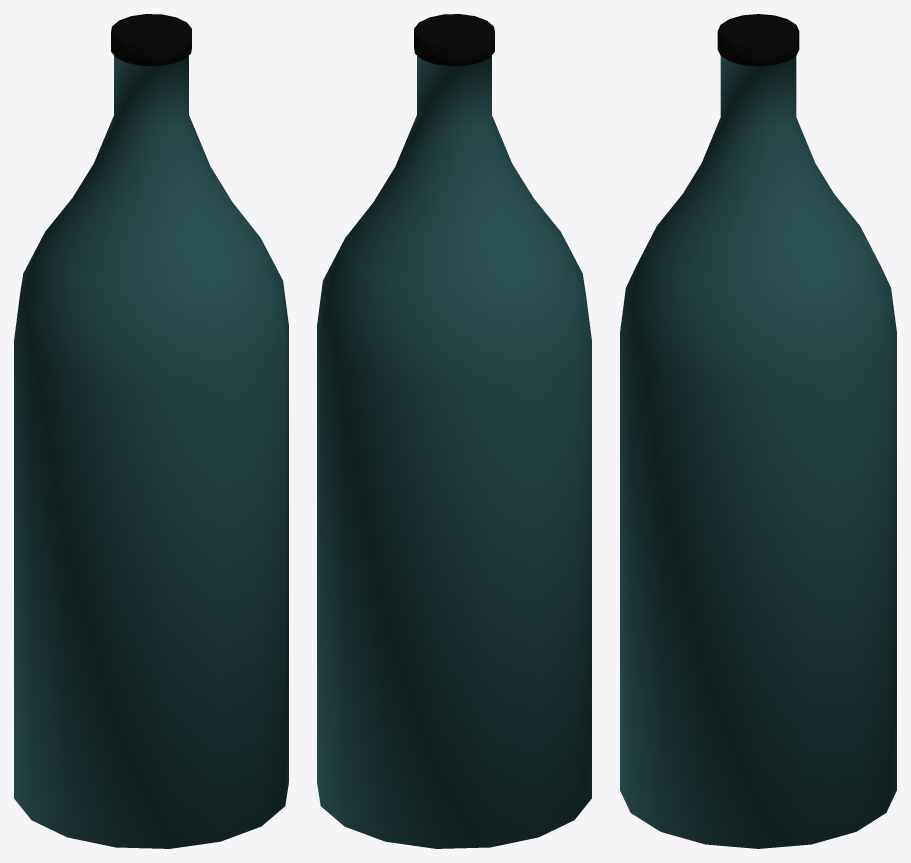
File: Bottle.fbx
3 renders of one model, left to right at view 1: azimuth 30°, elevation 25°; view 2: azimuth 150°, elevation 25°; view 3: azimuth 270°, elevation 25°, orthographic.
Parts seen in each view (by area): view 1: Cylinder; view 2: Cylinder; view 3: Cylinder.
Part boxes in pixels (x1,y1,x2,y2): Cylinder: (14,14,288,848); Cylinder: (317,14,591,848); Cylinder: (620,14,896,848).
Size of the model in its own units: 215 by 650 by 215.
